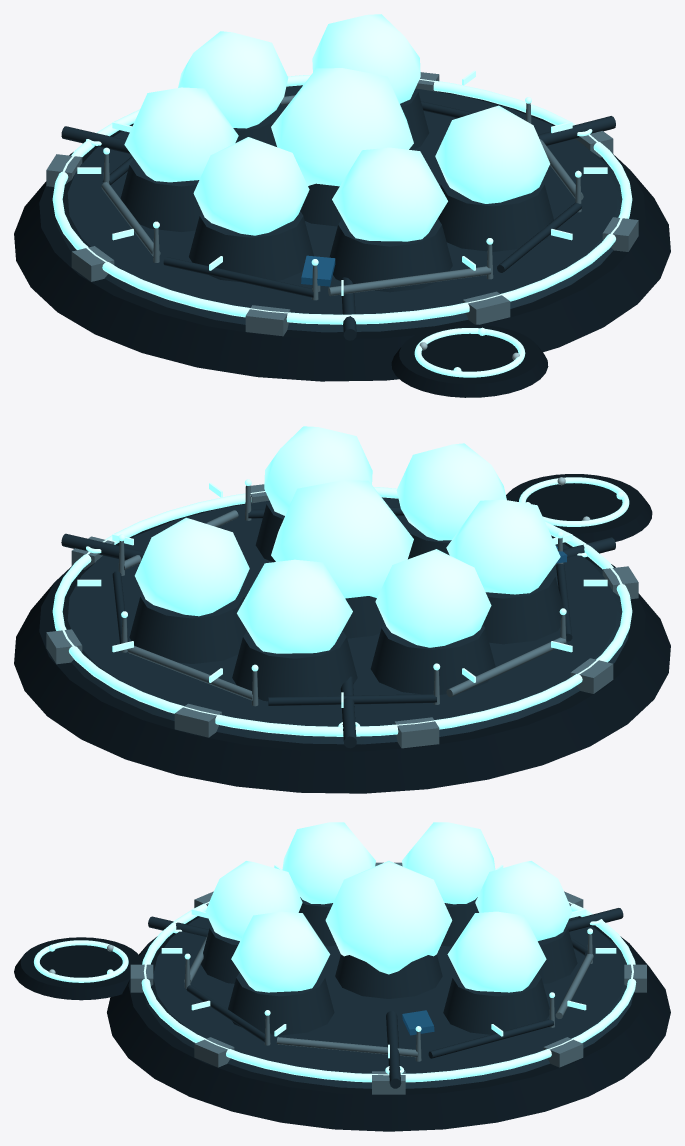
The model's file is crystalStorage-stage1.glb.
The picture shows the model from 3 angles, top to bottom: view 1: azimuth 30°, elevation 25°; view 2: azimuth 150°, elevation 25°; view 3: azimuth 270°, elevation 25°; orthographic projection. The views are drawn at different scales.
Parts seen in each view (by area): view 1: crystal-cell (×7), armored-foundation, upper-deck, detail (×7), perimeter-light, landing-pad, landing-guidance-light, service-catwalk-1, service-catwalk-2, buttress-2, buttress-3, buttress-4 (+8 smaller); view 2: crystal-cell (×7), armored-foundation, upper-deck, detail (×7), perimeter-light, landing-pad, service-catwalk-4, landing-guidance-light, service-catwalk-5, buttress-6, buttress-5, service-catwalk-3 (+6 smaller); view 3: crystal-cell (×7), armored-foundation, upper-deck, detail (×7), perimeter-light, landing-pad, landing-guidance-light, service-catwalk-7, service-catwalk-6, utility-conduit-2, buttress-7, buttress-1 (+8 smaller).
Part boxes in pixels (bbox=[...]): crystal-cell (×7): bbox=[124, 14, 550, 241]; armored-foundation: bbox=[14, 85, 670, 381]; upper-deck: bbox=[56, 85, 629, 332]; detail (×7): bbox=[120, 88, 553, 292]; perimeter-light: bbox=[52, 75, 632, 324]; landing-pad: bbox=[391, 324, 548, 397]; landing-guidance-light: bbox=[414, 328, 525, 377]; service-catwalk-1: bbox=[328, 266, 491, 295]; service-catwalk-2: bbox=[163, 257, 313, 297]; buttress-2: bbox=[463, 291, 510, 324]; buttress-3: bbox=[245, 305, 290, 336]; buttress-4: bbox=[71, 246, 114, 281]; crystal-cell (×7): bbox=[134, 426, 560, 653]; armored-foundation: bbox=[14, 497, 670, 793]; upper-deck: bbox=[55, 497, 628, 744]; detail (×7): bbox=[129, 500, 563, 701]; perimeter-light: bbox=[52, 487, 632, 736]; landing-pad: bbox=[506, 474, 652, 543]; service-catwalk-4: bbox=[268, 694, 436, 705]; landing-guidance-light: bbox=[519, 477, 629, 526]; service-catwalk-5: bbox=[127, 645, 252, 700]; buttress-6: bbox=[174, 703, 221, 737]; buttress-5: bbox=[394, 717, 439, 748]; service-catwalk-3: bbox=[446, 637, 566, 697]; crystal-cell (×7): bbox=[205, 822, 572, 992]; armored-foundation: bbox=[107, 916, 670, 1131]; upper-deck: bbox=[144, 916, 633, 1088]; detail (×7): bbox=[201, 897, 577, 1035]; perimeter-light: bbox=[141, 901, 636, 1082]; landing-pad: bbox=[14, 937, 142, 1000]; landing-guidance-light: bbox=[34, 940, 128, 982]; service-catwalk-7: bbox=[276, 1037, 417, 1057]; service-catwalk-6: bbox=[428, 1019, 553, 1058]; utility-conduit-2: bbox=[386, 1011, 401, 1088]; buttress-7: bbox=[543, 1037, 583, 1067]; buttress-1: bbox=[194, 1037, 234, 1067].
Size of the model in its own units: 8.53 by 2.5 by 9.93.
